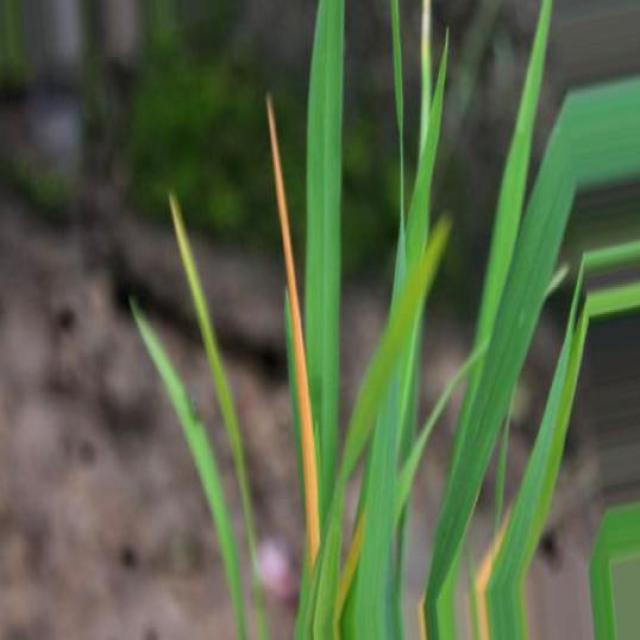Rice Tungro: (267, 96, 320, 570), (472, 510, 509, 640)
